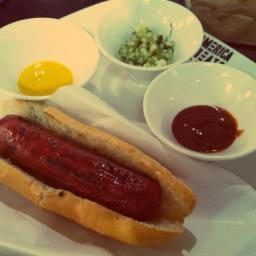hotdog: (1, 144, 158, 218), (0, 112, 68, 150)
